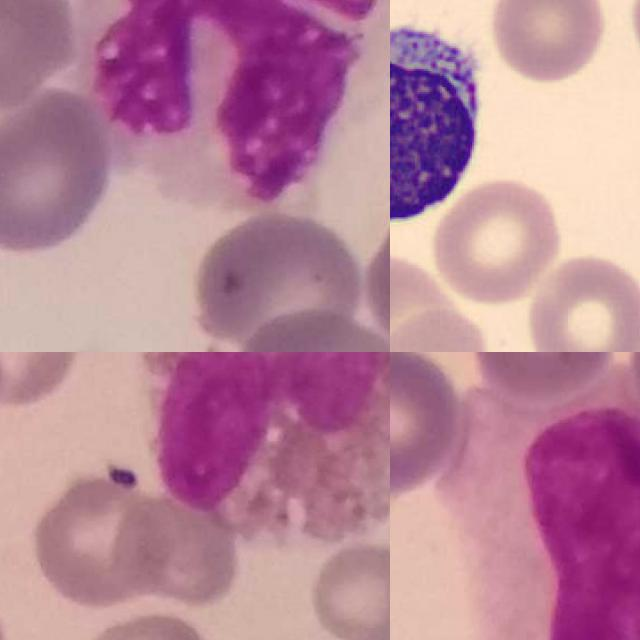Eosinophil: (144, 352, 390, 540)
Lymphocyte: (390, 5, 493, 233)
Monocyte: (85, 0, 390, 211), (452, 380, 640, 640)
RBC: (430, 173, 567, 307), (521, 249, 640, 352), (482, 0, 612, 88), (390, 305, 495, 352)
